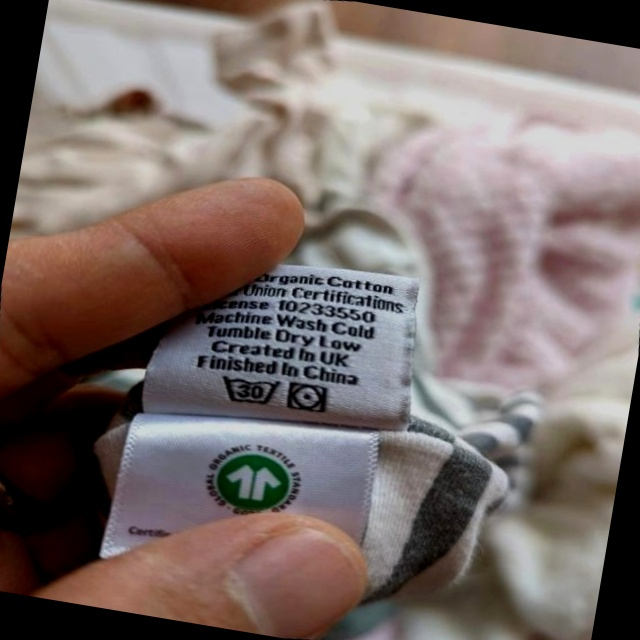30C: (212, 364, 286, 416)
tumble_dry_low: (281, 375, 334, 421)
